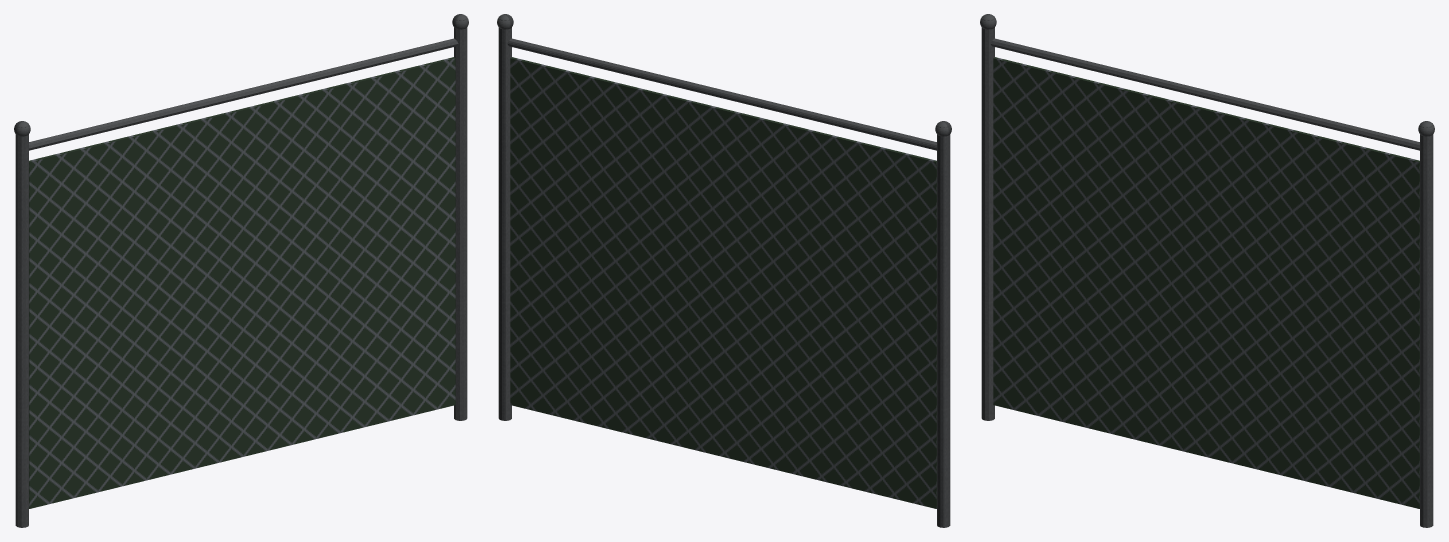
Rendered from chainlink_tall_3m.dae.
3 views of the same model, side by side, from view 1: azimuth 30°, elevation 25°; view 2: azimuth 150°, elevation 25°; view 3: azimuth 330°, elevation 25° (orthographic).
Parts seen in each view (by area): view 1: mesh, post_0, post_1, top_rail; view 2: mesh, post_0, post_1, top_rail; view 3: mesh, post_1, post_0, top_rail.
Boxes of the visible parts, <box> form: mesh: <box>29,57,455,508</box>; post_0: <box>15,123,28,527</box>; post_1: <box>454,16,467,420</box>; top_rail: <box>29,38,458,150</box>; mesh: <box>510,57,936,508</box>; post_0: <box>937,123,950,527</box>; post_1: <box>498,16,511,420</box>; top_rail: <box>507,38,936,150</box>; mesh: <box>993,57,1419,508</box>; post_1: <box>1420,123,1433,527</box>; post_0: <box>981,16,994,420</box>; top_rail: <box>990,38,1419,150</box>.
Size of the model in its own units: 3.02 by 0.096 by 2.57.
2 materials, 2 textured.
